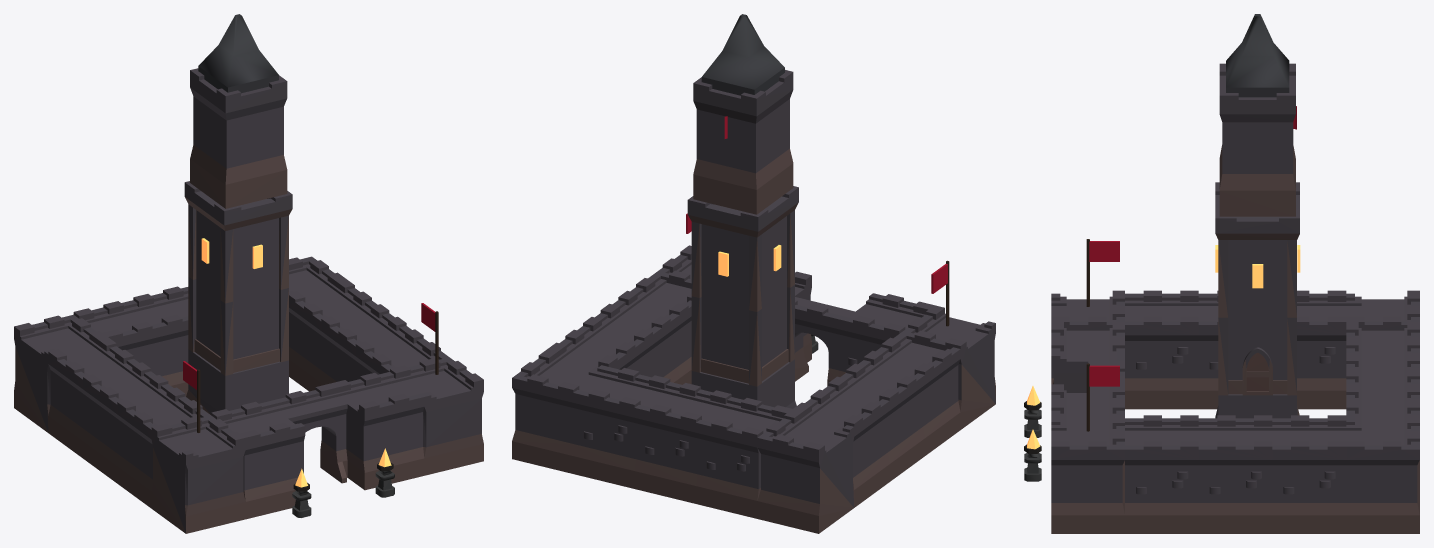
The model's file is fortress_l2.glb.
3 renders of one model, left to right at view 1: azimuth 30°, elevation 25°; view 2: azimuth 150°, elevation 25°; view 3: azimuth 270°, elevation 25°, orthographic. The views are drawn at different scales.
Visible parts, largest first — view 1: fortress_l2; view 2: fortress_l2; view 3: fortress_l2.
Part boxes in pixels (x1,y1,x2,y2): fortress_l2: [14, 14, 483, 533]; fortress_l2: [512, 14, 995, 533]; fortress_l2: [1024, 14, 1419, 533].
Size of the model in its own units: 7.36 by 9.71 by 7.9.
